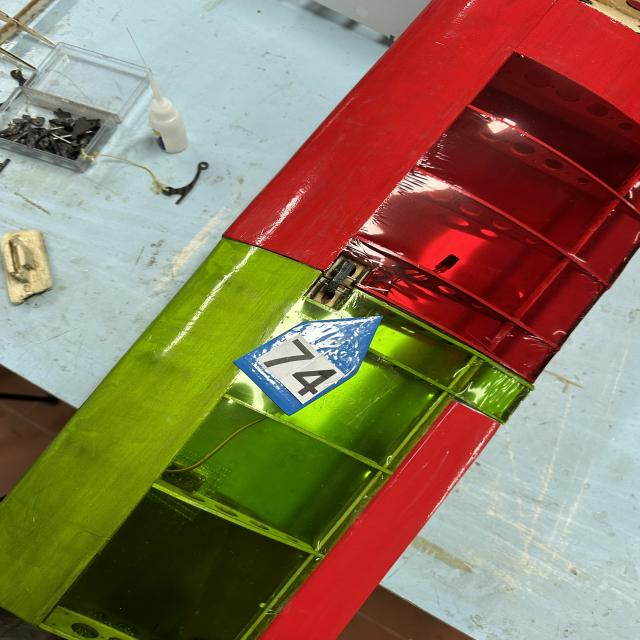board: (231, 315, 387, 417)
